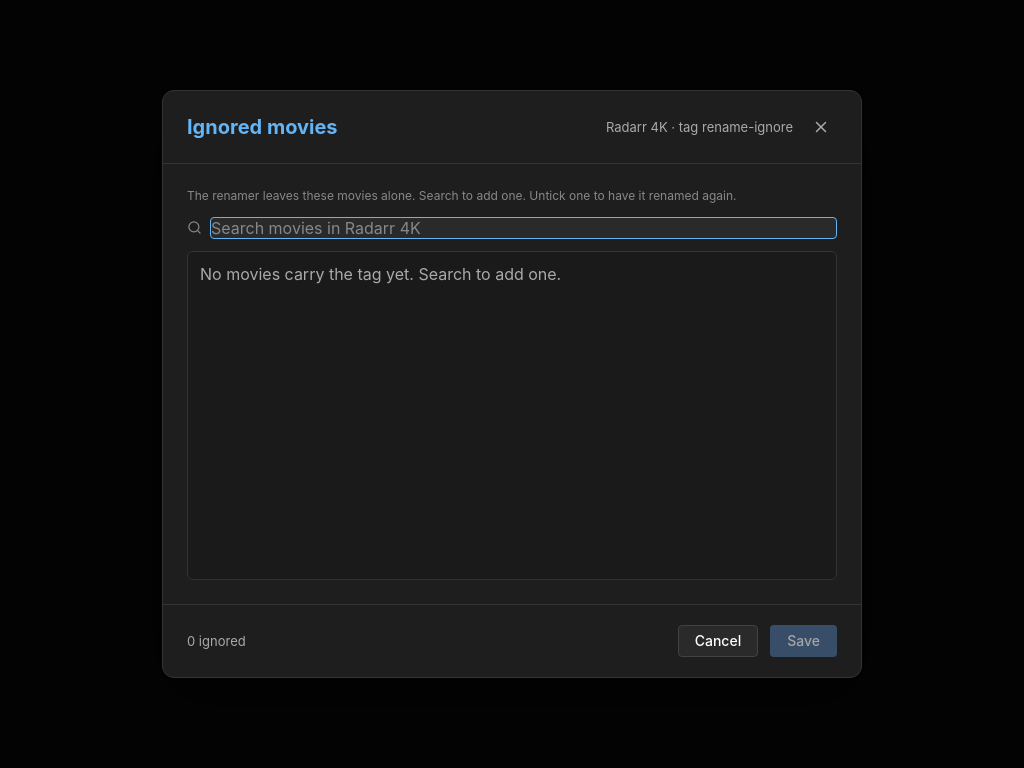
Test case: RenameTagModal › says when nothing is ignored or nothing matches, and shows a load failure
The width and height of the screenshot is (1024, 768).
Later steps or results of the test are not shown.
Check: the text "No movies carry the tag yet. Search to add one." is shown, box 200,264 -> 561,284
Type "zeta" into the search field labelled "Search movies" at (524, 228), box 210,217 -> 837,239
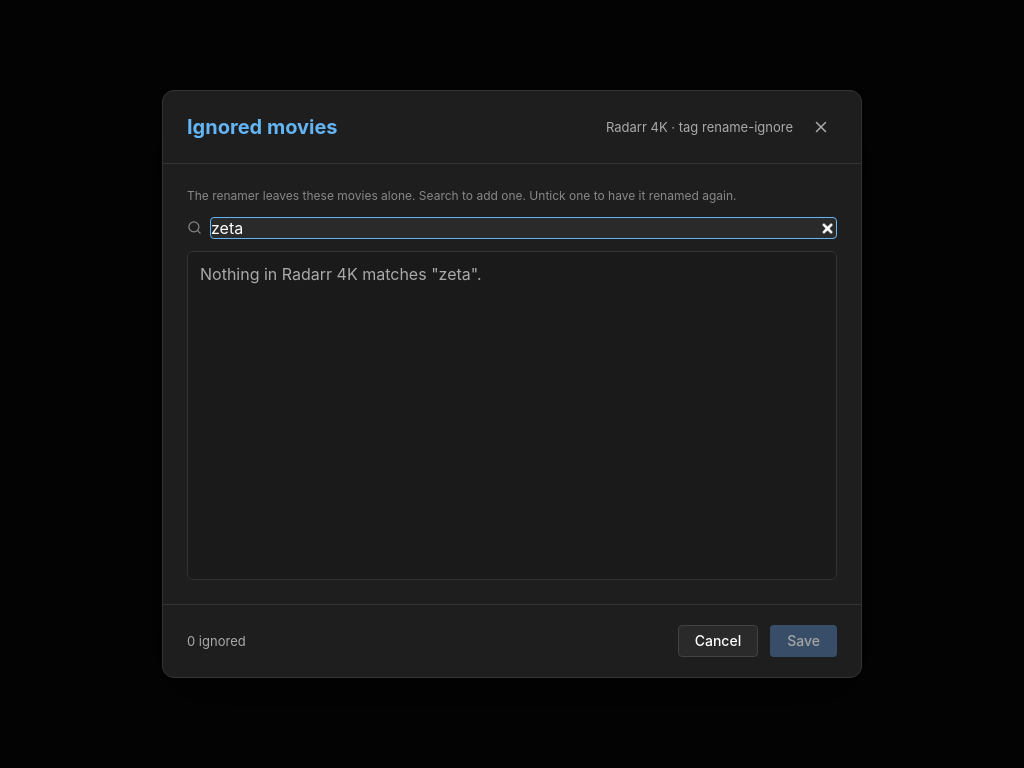
Check: the text "Nothing in Radarr 4K matches \"zeta\"." is shown, box 200,264 -> 482,284
